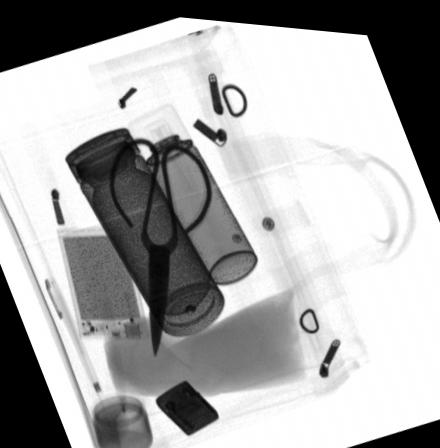Lighter: (155, 375, 217, 432)
Powerbank: (53, 222, 149, 336)
Scissors: (105, 132, 211, 354)
Sprayer: (124, 96, 256, 281)
